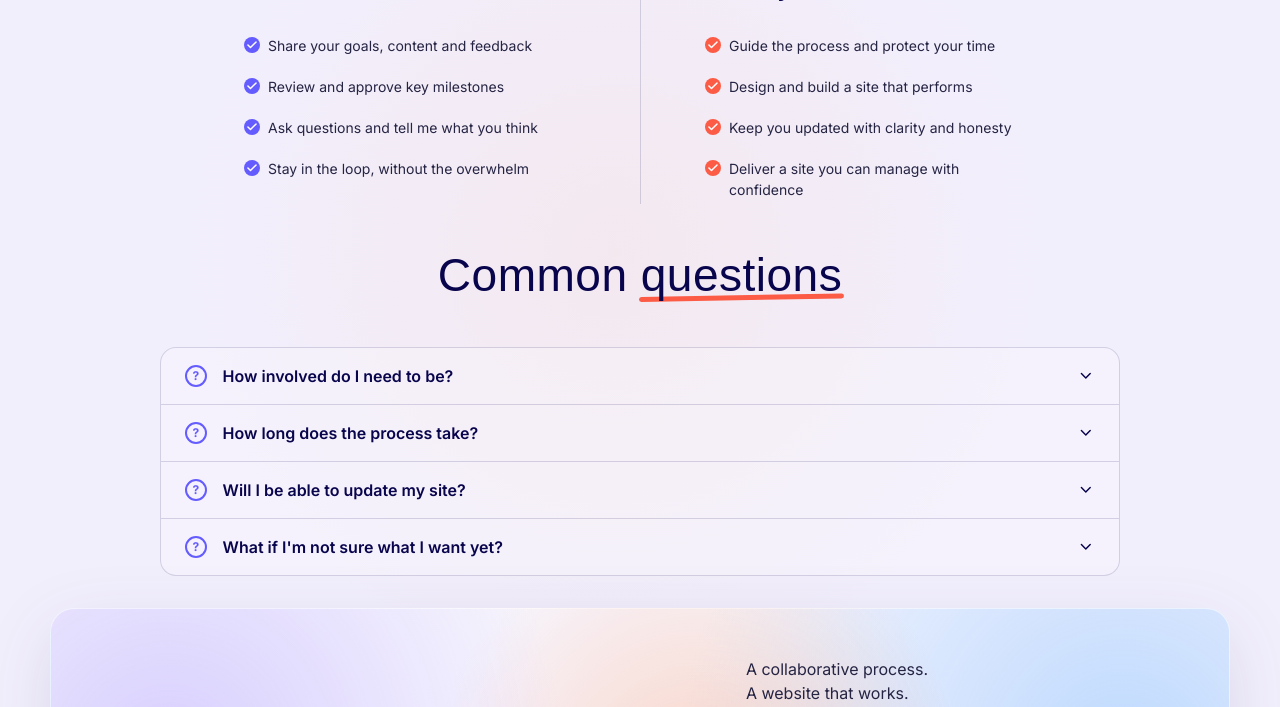
Test case: ProcessPage › uses an accessible native FAQ accordion
(page scrolled)
Check: the text "? How involved do I need to be?" is shown, box [185,365,1095,387]
What coordinates should you click on to do the following:
click the text "How involved do I need to be?"
I would click on:
 (338, 376)
Its box is [223,366,453,386].
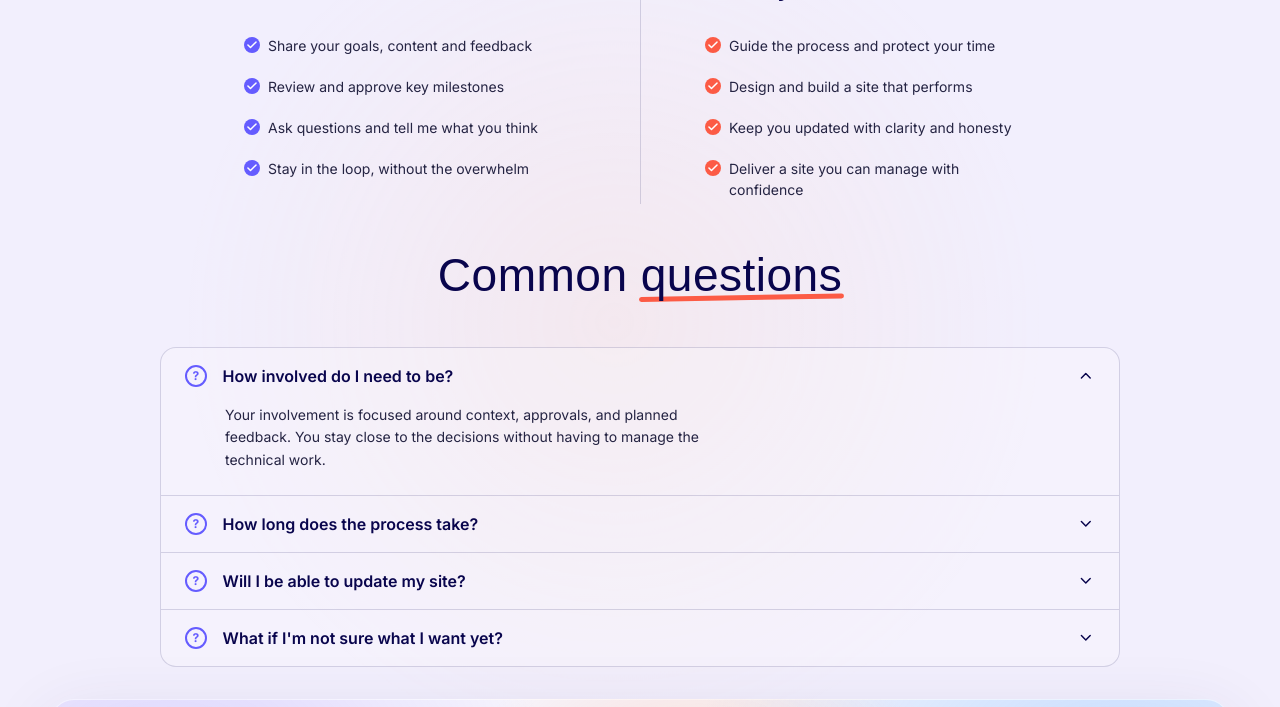
Check: the text "Your involvement is focused around context, approvals, and planned feedback" is shown, box [225,406,699,468]
